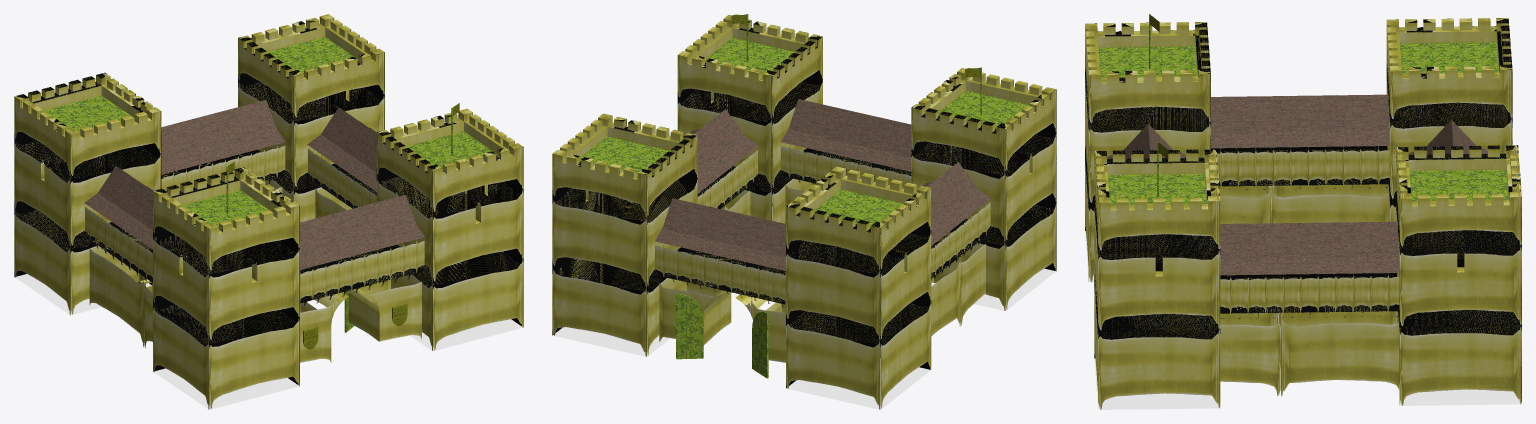
File: Ysilische_Tor.dae
The picture shows the model from 3 angles, left to right: view 1: azimuth 30°, elevation 25°; view 2: azimuth 150°, elevation 25°; view 3: azimuth 270°, elevation 25°; orthographic projection. The views are drawn at different scales.
Visible parts, largest first — view 1: Gruppe_11 (×4), Gruppe_9 (×3), Gruppe_4, Gruppe_9_1_2, Gruppe_7_1_2, Gruppe_7; view 2: Gruppe_11 (×4), Gruppe_9 (×3), Gruppe_9_1_2, Gruppe_4, Gruppe_7_1_2, Komponente_3 (×2); view 3: Gruppe_11 (×4), Gruppe_9 (×3), Gruppe_9_1_2, Gruppe_7, Gruppe_7_1_2.
Boxes of the visible parts, bbox=[...] form: Gruppe_11 (×4): bbox=[14, 14, 523, 409]; Gruppe_9 (×3): bbox=[161, 100, 424, 303]; Gruppe_4: bbox=[300, 279, 421, 362]; Gruppe_9_1_2: bbox=[84, 166, 153, 282]; Gruppe_7_1_2: bbox=[89, 248, 152, 348]; Gruppe_7: bbox=[315, 188, 346, 218]; Gruppe_11 (×4): bbox=[552, 15, 1056, 409]; Gruppe_9 (×3): bbox=[655, 99, 911, 304]; Gruppe_9_1_2: bbox=[922, 162, 991, 278]; Gruppe_4: bbox=[659, 282, 785, 362]; Gruppe_7_1_2: bbox=[931, 244, 985, 336]; Komponente_3 (×2): bbox=[676, 293, 768, 378]; Gruppe_11 (×4): bbox=[1085, 18, 1521, 409]; Gruppe_9 (×3): bbox=[1107, 120, 1487, 313]; Gruppe_9_1_2: bbox=[1211, 94, 1389, 186]; Gruppe_7: bbox=[1220, 311, 1398, 396]; Gruppe_7_1_2: bbox=[1219, 184, 1389, 223].
Size of the model in its own units: 4881 by 4881 by 2990.
